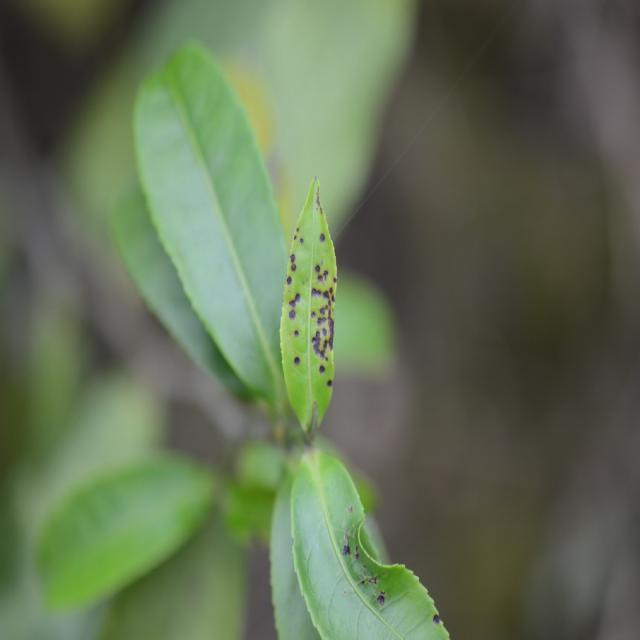Tea red scab: (275, 216, 319, 349)
